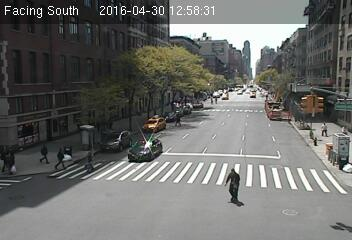neg: (81, 76, 97, 96), (148, 114, 161, 131), (110, 118, 119, 129), (280, 83, 288, 94), (249, 88, 255, 97), (226, 89, 231, 96)
